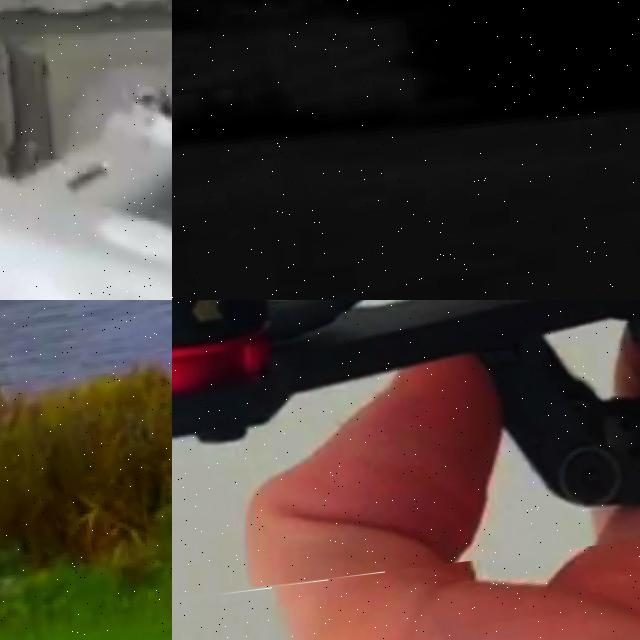drone: (172, 300, 640, 599), (0, 0, 172, 300)
